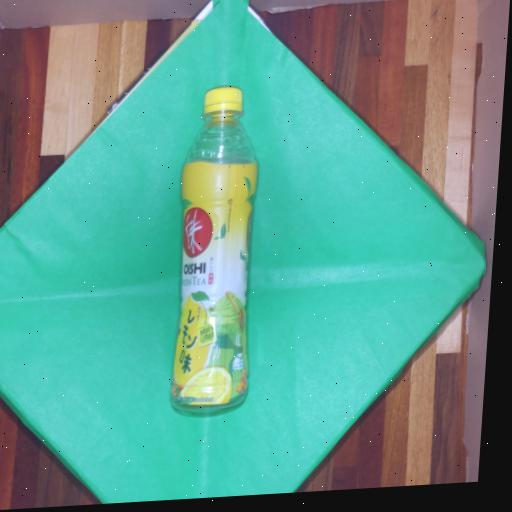bottle: (167, 83, 269, 416)
